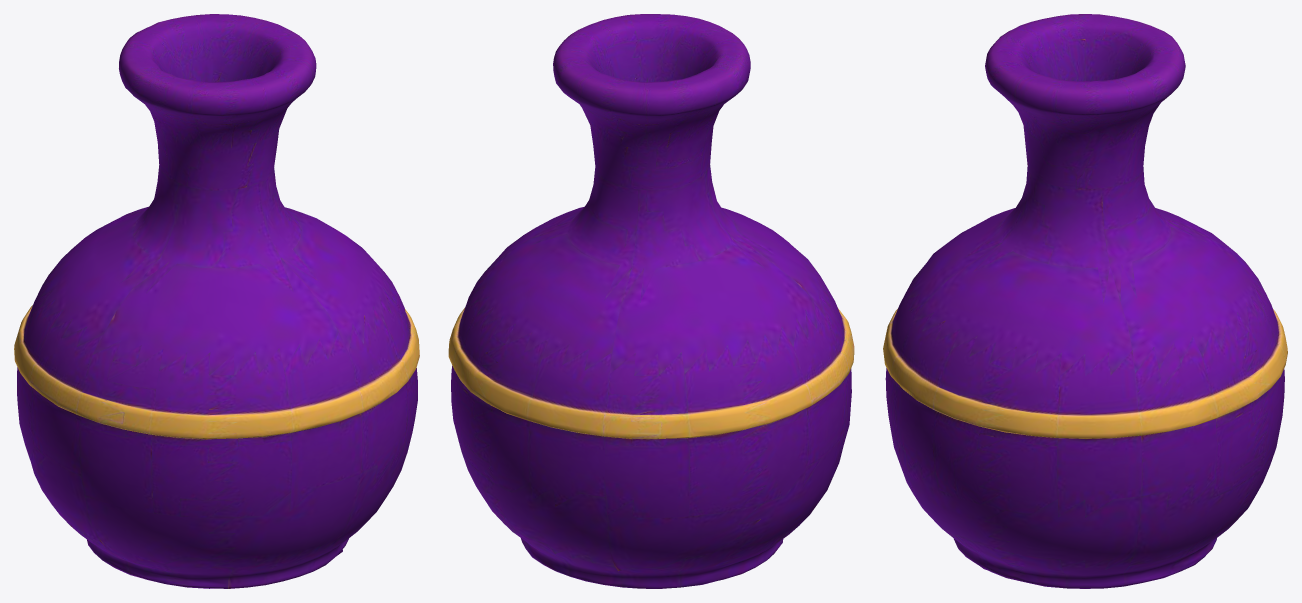
Rendered from item03_purple_vase.glb.
The picture shows the model from 3 angles, left to right: view 1: azimuth 30°, elevation 25°; view 2: azimuth 150°, elevation 25°; view 3: azimuth 270°, elevation 25°; orthographic projection.
Parts seen in each view (by area): view 1: geometry_0; view 2: geometry_0; view 3: geometry_0.
Part boxes in pixels (x1=…): geometry_0: x1=14, y1=14, x2=419, y2=588; geometry_0: x1=448, y1=14, x2=854, y2=588; geometry_0: x1=883, y1=14, x2=1287, y2=588.
Bounding box in the file's own units: 0.7246 × 0.9507 × 0.7236.
1 material, 1 textured.
